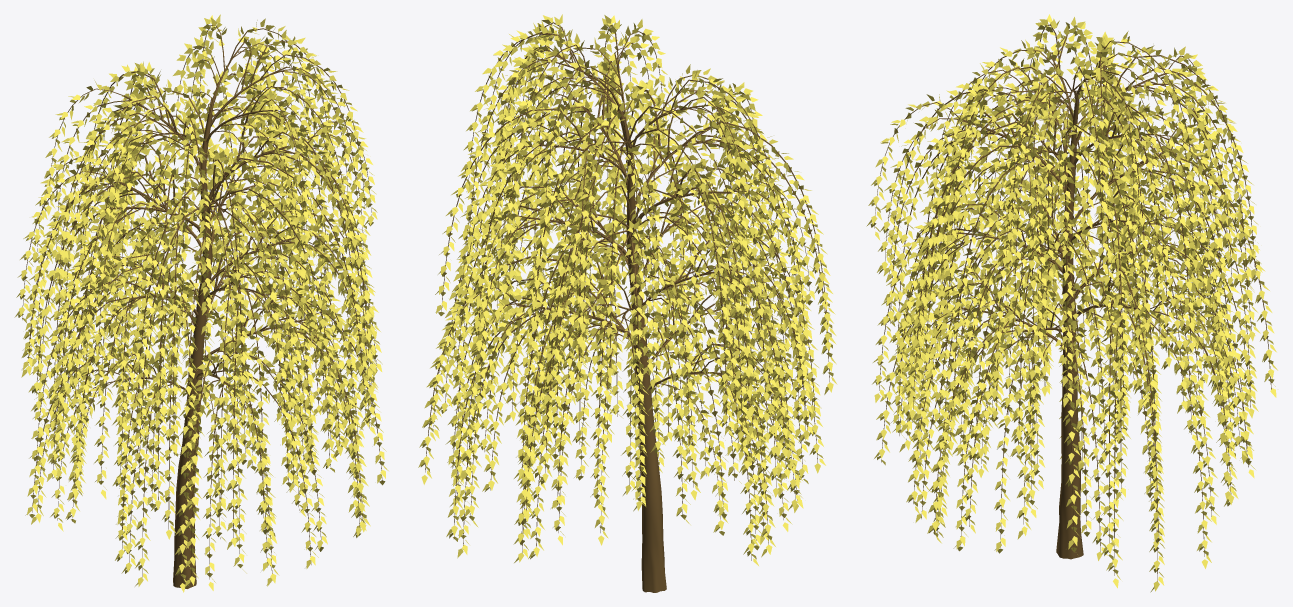
File: tree.FBX
3 views of the same model, side by side, from view 1: azimuth 30°, elevation 25°; view 2: azimuth 150°, elevation 25°; view 3: azimuth 270°, elevation 25° (orthographic). The views are drawn at different scales.
Parts seen in each view (by area): view 1: Foliage001; view 2: Foliage001; view 3: Foliage001.
Boxes of the visible parts, left/top/right/bottom form: Foliage001: left=14, top=14, right=388, bottom=592; Foliage001: left=418, top=14, right=837, bottom=592; Foliage001: left=866, top=14, right=1277, bottom=592.
Bounding box in the file's own units: 266 × 415 × 281.
